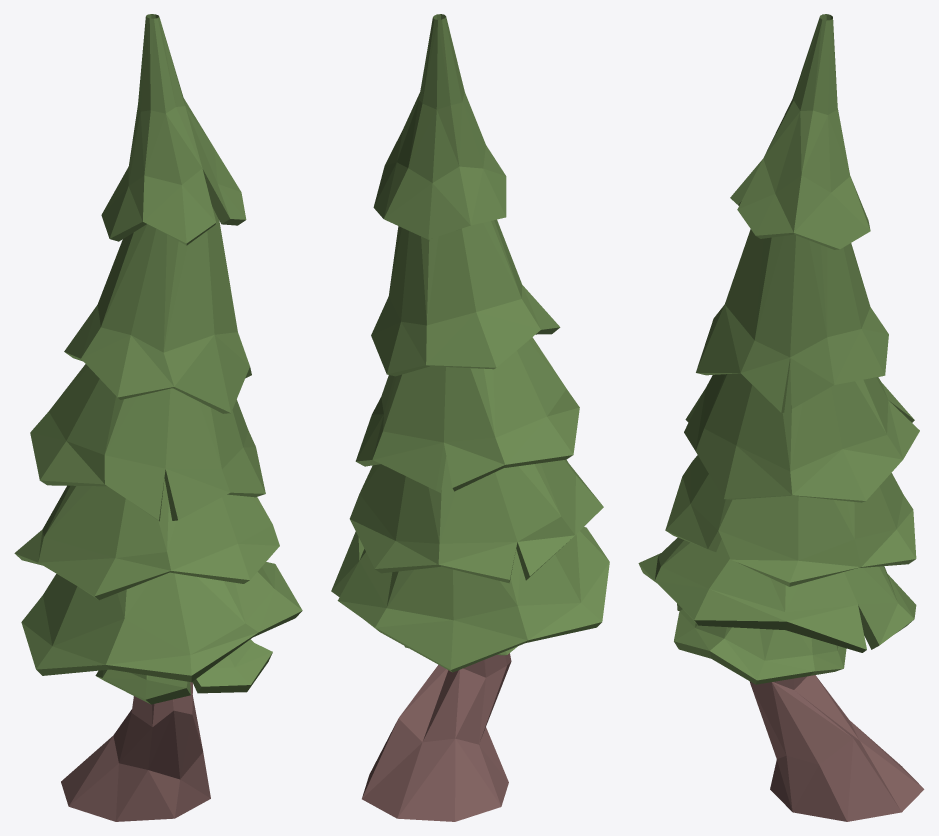
Rendered from A_Arvore4.fbx.
3 views of the same model, side by side, from view 1: azimuth 30°, elevation 25°; view 2: azimuth 150°, elevation 25°; view 3: azimuth 270°, elevation 25° (orthographic).
Parts seen in each view (by area): view 1: Circle; view 2: Circle; view 3: Circle.
Boxes of the visible parts, x1,y1,x2,y2 form: Circle: (14, 14, 302, 821); Circle: (331, 14, 609, 821); Circle: (638, 14, 924, 821).
Bounding box in the file's own units: 608 × 1857 × 621.
